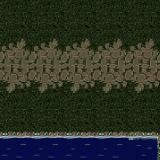Interaction: (0, 120, 160, 142)
Slow: (0, 139, 160, 160)
